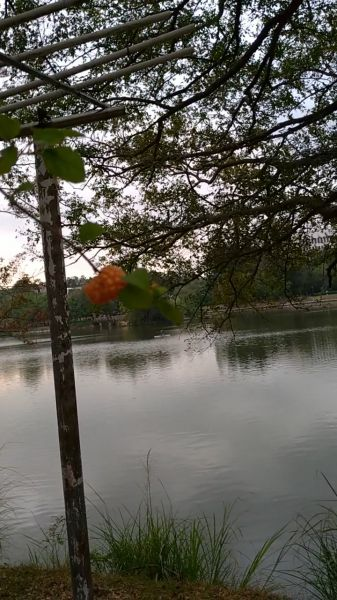eggs: (81, 259, 130, 305)
